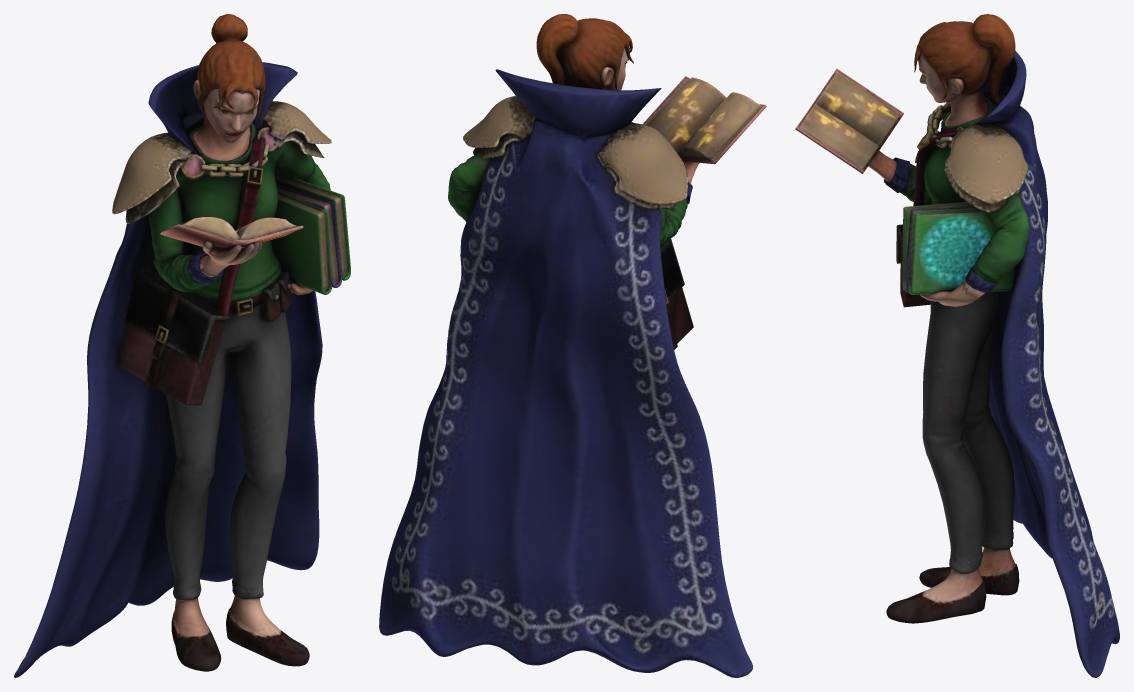
File: MZ4250 - Human Female Transmutation Wizard_3.glb
3 views of the same model, side by side, from view 1: azimuth 30°, elevation 25°; view 2: azimuth 150°, elevation 25°; view 3: azimuth 270°, elevation 25° (orthographic). The views are drawn at different scales.
Parts seen in each view (by area): view 1: Body.002; view 2: Body.002; view 3: Body.002.
Boxes of the visible parts, x1,y1,x2,y2 form: Body.002: (14, 14, 350, 677); Body.002: (379, 14, 766, 677); Body.002: (795, 14, 1119, 677).
Bounding box in the file's own units: 0.5512 × 0.9634 × 0.4717.
Materials: 1 (1 with a texture image).
